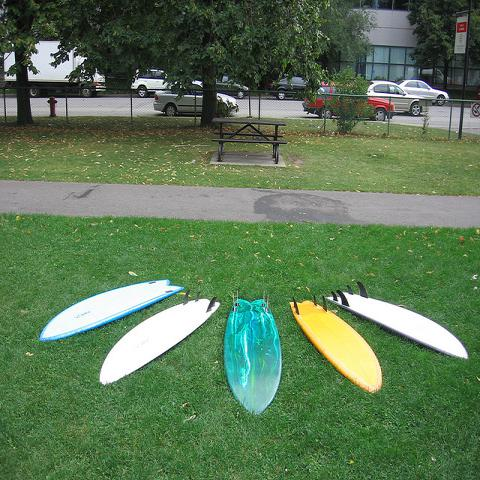car: (302, 80, 396, 122), (153, 80, 238, 115), (367, 80, 424, 117), (396, 79, 450, 106), (131, 68, 174, 98), (80, 68, 106, 98), (275, 76, 306, 99), (216, 79, 251, 98)
truck: (4, 41, 106, 98)
